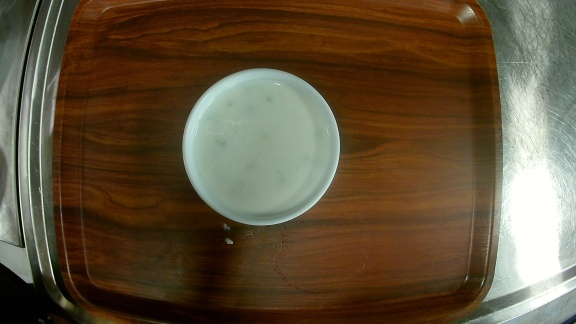cacik: (181, 68, 341, 225)
